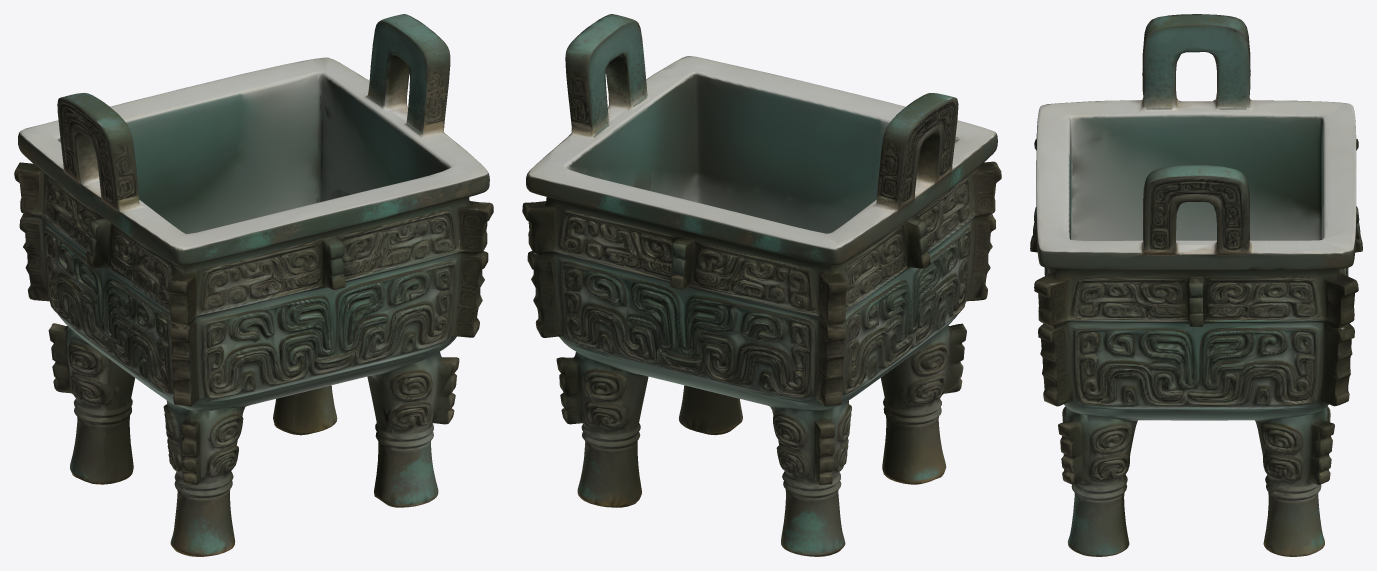
Rendered from hou-si-mu-wu-ding.glb.
3 views of the same model, side by side, from view 1: azimuth 30°, elevation 25°; view 2: azimuth 150°, elevation 25°; view 3: azimuth 270°, elevation 25° (orthographic). The views are drawn at different scales.
Parts seen in each view (by area): view 1: convert; view 2: convert; view 3: convert.
Boxes of the visible parts, <box> form: convert: <box>14,14,493,556</box>; convert: <box>522,14,1001,556</box>; convert: <box>1030,14,1362,556</box>.
Bounding box in the file's own units: 0.7855 × 0.9113 × 0.6799.
Materials: 1 (1 with a texture image).
